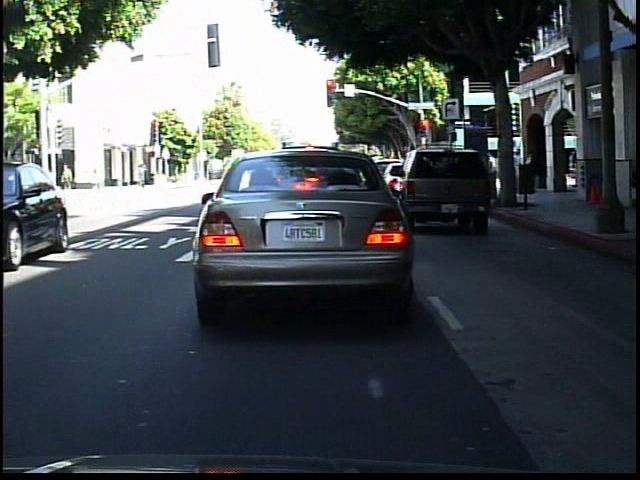person: (618, 141, 639, 221), (590, 144, 612, 217), (61, 161, 77, 197), (31, 168, 46, 206), (48, 163, 61, 206), (135, 162, 152, 192)
